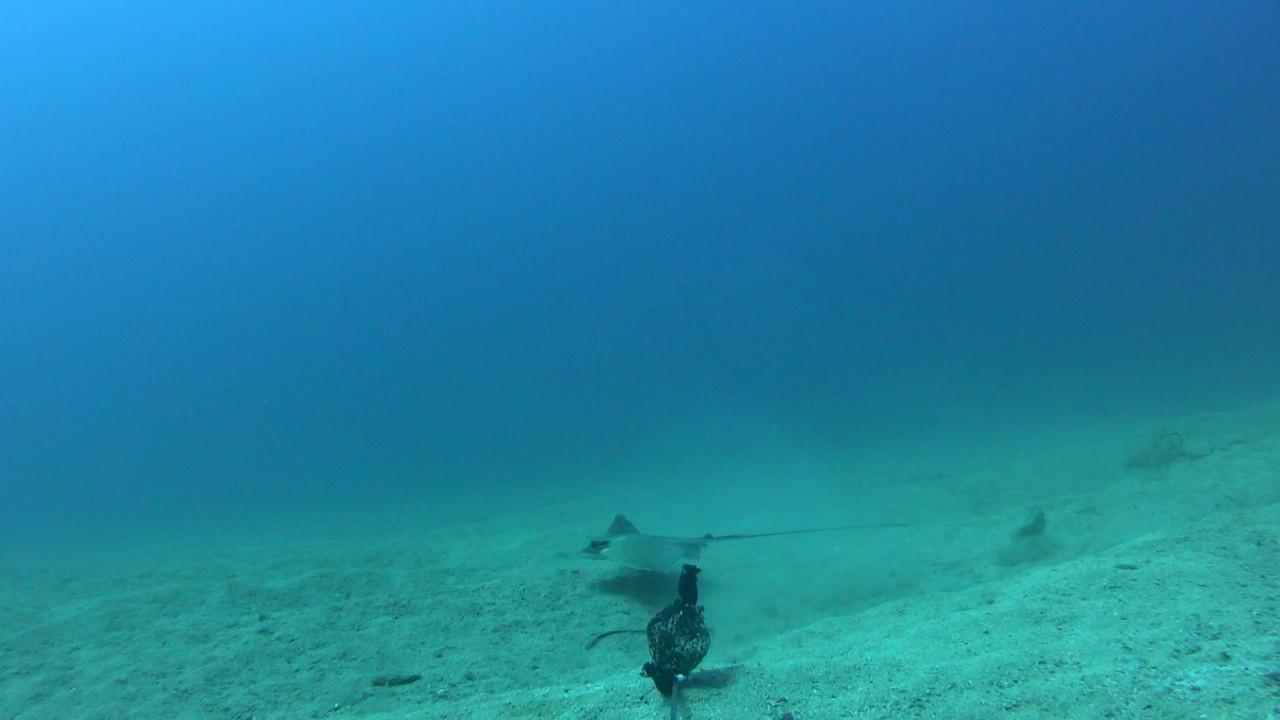myliobatis: (549, 496, 925, 574)
